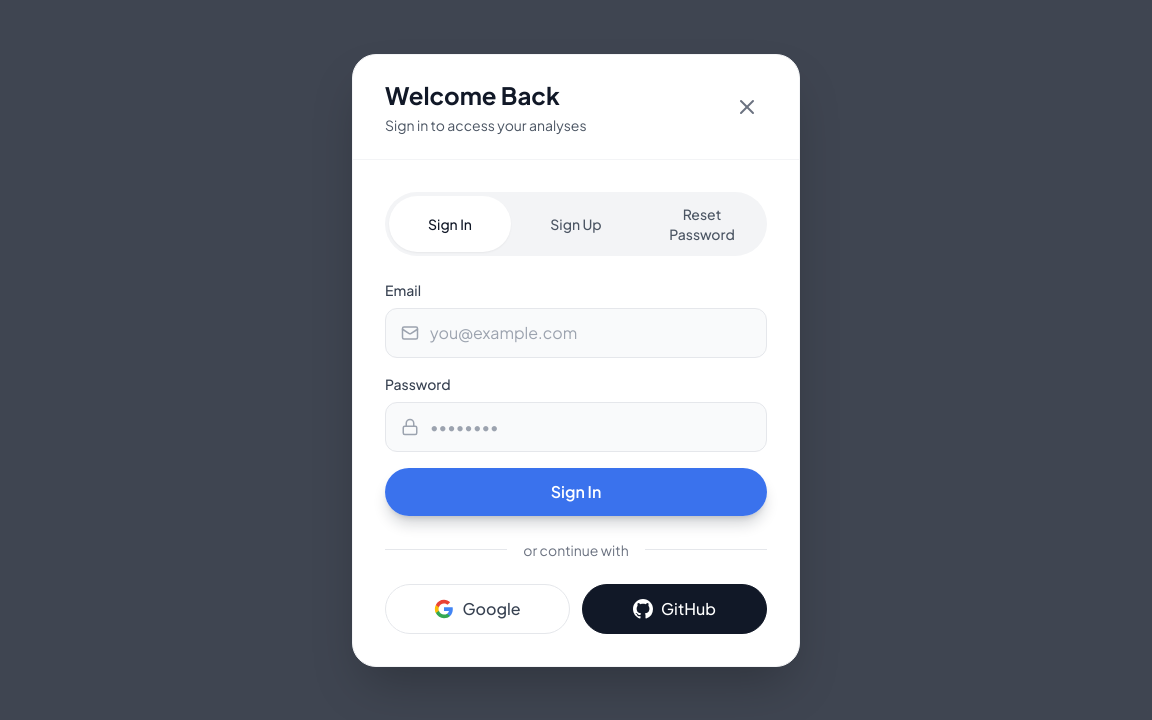
Test: AuthModal › Reset Password form › should only render email input on Reset Password tab
Click the button "Reset Password" at point(702, 224), box [641, 196, 763, 252]
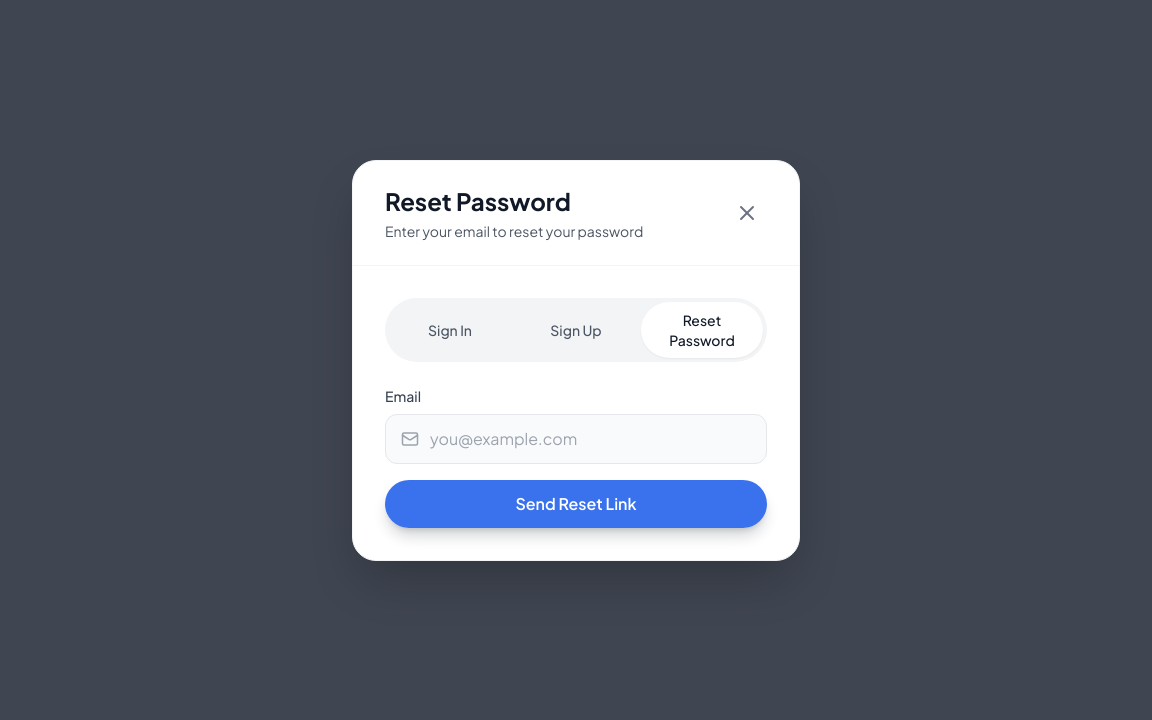
Expected: the field with placeholder "you@example.com" is shown, [385, 414, 767, 464]
Expected: the password field with placeholder "••••••••" is gone
